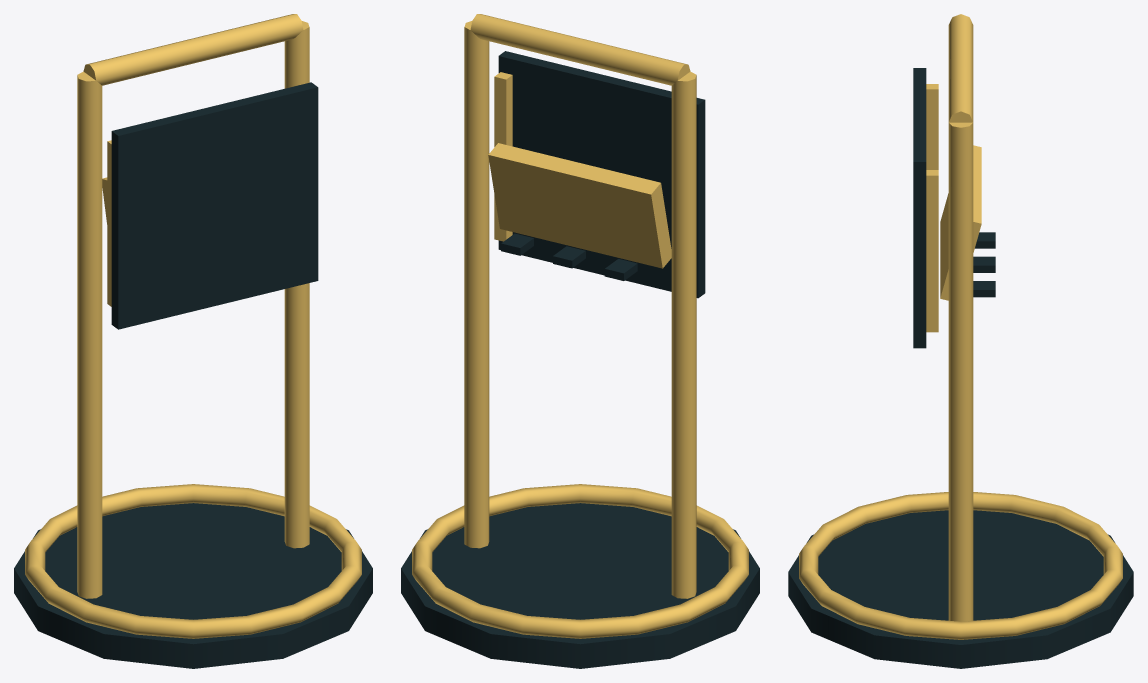
Rendered from pickup-front.glb.
3 renders of one model, left to right at view 1: azimuth 30°, elevation 25°; view 2: azimuth 150°, elevation 25°; view 3: azimuth 270°, elevation 25°, orthographic. The views are drawn at different scales.
Parts seen in each view (by area): view 1: pickup-front; view 2: pickup-front; view 3: pickup-front.
Part boxes in pixels (x1,y1,x2,y2): pickup-front: (14, 14, 372, 668); pickup-front: (401, 14, 759, 668); pickup-front: (788, 14, 1133, 668).
Bounding box in the file's own units: 2.1 × 3.58 × 2.1.
